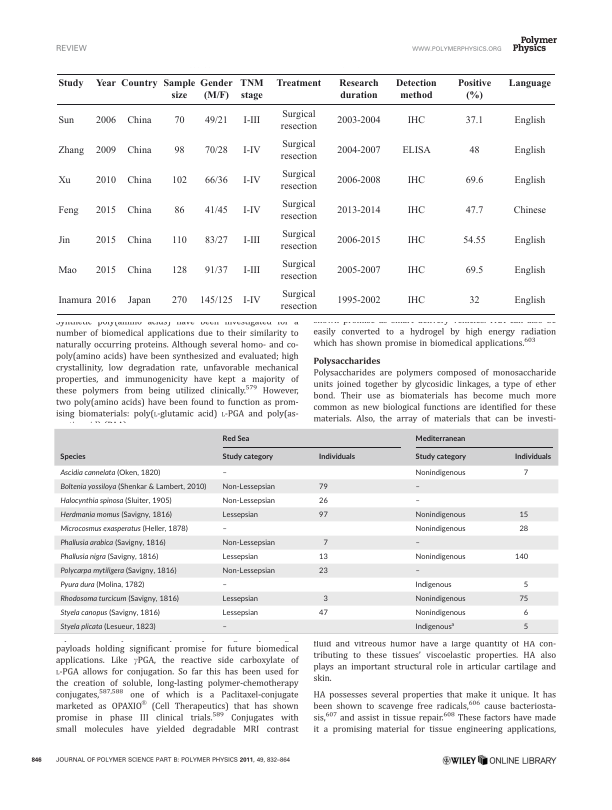borderless: (56, 73, 555, 314), (52, 428, 559, 635)
cell: (59, 481, 206, 493), (59, 523, 188, 535), (59, 593, 179, 605), (59, 565, 177, 577), (59, 495, 172, 507), (59, 509, 172, 521), (59, 537, 166, 549), (59, 467, 160, 479), (59, 607, 160, 619), (59, 551, 158, 563), (59, 621, 156, 633), (59, 579, 144, 591), (395, 79, 437, 102), (338, 79, 379, 102), (279, 139, 318, 163), (279, 110, 318, 133), (279, 169, 318, 192), (279, 199, 318, 222), (279, 229, 318, 252), (279, 259, 318, 282), (279, 289, 318, 312), (457, 79, 492, 102), (162, 79, 196, 102), (199, 79, 233, 102), (414, 432, 465, 445), (221, 481, 275, 493), (221, 495, 275, 507), (221, 537, 275, 549), (221, 565, 275, 577), (221, 451, 273, 463), (414, 451, 466, 463), (414, 467, 466, 479), (414, 509, 466, 521), (414, 523, 466, 535), (414, 551, 466, 563), (414, 593, 466, 605), (414, 607, 466, 619), (239, 79, 264, 102), (336, 145, 381, 157), (414, 620, 454, 633), (275, 79, 322, 90), (507, 79, 552, 90), (336, 116, 381, 127), (336, 175, 381, 186), (336, 205, 381, 216), (336, 235, 381, 246), (336, 265, 381, 276), (336, 295, 381, 306), (414, 579, 452, 591), (221, 509, 258, 521), (221, 551, 258, 563), (221, 593, 258, 605), (221, 607, 258, 619), (120, 79, 158, 90), (513, 145, 546, 157), (512, 205, 547, 216), (57, 295, 92, 306), (221, 432, 250, 445), (199, 295, 233, 306), (513, 116, 546, 127), (513, 175, 546, 186), (513, 235, 546, 246), (513, 265, 546, 276), (513, 295, 546, 306), (401, 145, 431, 157), (57, 145, 85, 157), (59, 451, 86, 463), (126, 145, 152, 157), (317, 453, 355, 461), (513, 453, 551, 461), (57, 79, 84, 90), (204, 145, 228, 157), (126, 116, 152, 127), (126, 175, 152, 186), (126, 205, 152, 216), (126, 235, 152, 246), (126, 265, 152, 276), (204, 116, 228, 127), (95, 145, 117, 157), (204, 175, 228, 186), (204, 205, 228, 216), (204, 235, 228, 246), (462, 235, 486, 246), (204, 265, 228, 276), (127, 295, 151, 306), (95, 79, 117, 90), (94, 116, 116, 127), (94, 175, 116, 186), (57, 205, 79, 216), (95, 205, 117, 216), (95, 235, 117, 246), (95, 265, 117, 276), (95, 295, 117, 306), (242, 145, 261, 157), (406, 116, 426, 127), (464, 116, 484, 127), (406, 175, 426, 186), (464, 175, 484, 186), (406, 205, 426, 216), (464, 205, 484, 216), (406, 235, 426, 246), (57, 265, 77, 276), (406, 265, 426, 276), (464, 265, 484, 276), (406, 295, 426, 306), (242, 116, 261, 127), (242, 175, 261, 186), (242, 205, 261, 216), (242, 235, 261, 246), (242, 265, 261, 276), (242, 295, 261, 306), (57, 116, 75, 127), (171, 175, 188, 186), (171, 265, 188, 276), (171, 295, 188, 306), (171, 235, 187, 246), (57, 175, 71, 186), (57, 235, 71, 246), (173, 145, 185, 157), (468, 145, 480, 157), (173, 116, 185, 127), (173, 205, 185, 216), (468, 295, 480, 306), (317, 481, 328, 493), (317, 495, 328, 507), (317, 509, 328, 521), (513, 554, 528, 561), (317, 554, 328, 561), (317, 568, 328, 575), (317, 610, 328, 617), (522, 607, 528, 619), (518, 512, 528, 519), (518, 526, 528, 533), (518, 596, 528, 603), (221, 470, 227, 477), (522, 470, 528, 477), (414, 484, 420, 491), (414, 498, 420, 505), (221, 526, 227, 533), (322, 540, 328, 547), (414, 540, 420, 547), (414, 568, 420, 575), (221, 582, 227, 589), (522, 582, 528, 589), (322, 596, 328, 603), (221, 624, 227, 631), (522, 624, 528, 631)
